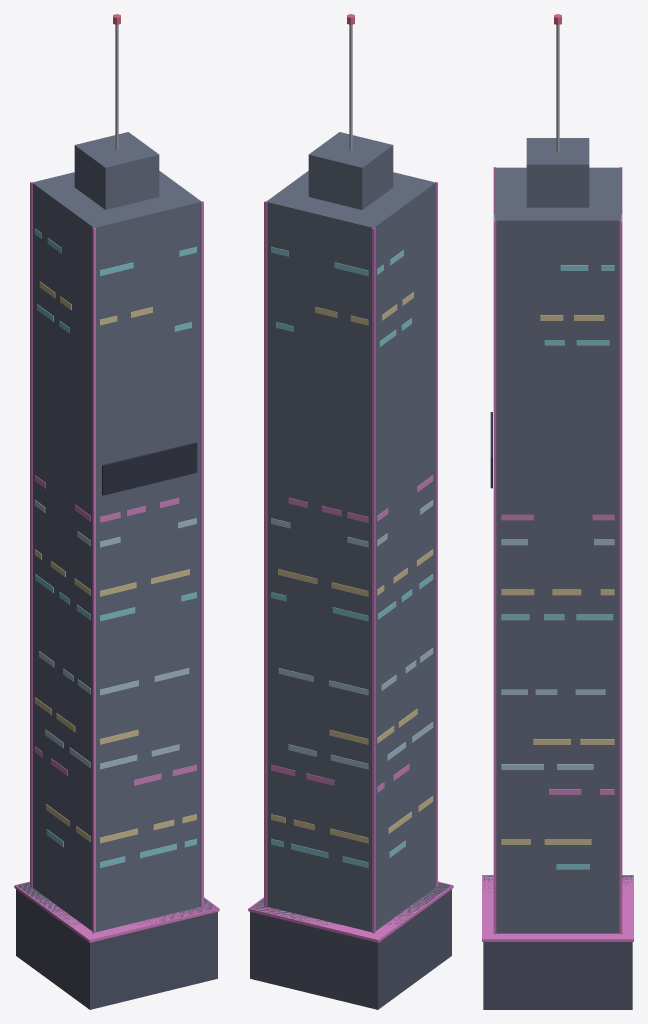
The model's file is c_turm_b.glb.
3 views of the same model, side by side, from view 1: azimuth 30°, elevation 25°; view 2: azimuth 150°, elevation 25°; view 3: azimuth 270°, elevation 25° (orthographic).
Visible parts, largest first — view 1: koerper, leuchten; view 2: koerper, leuchten; view 3: koerper, leuchten.
Part boxes in pixels (box(x1,y1,x2,y2)): koerper: box(16, 24, 217, 1009); leuchten: box(14, 14, 219, 942); koerper: box(250, 24, 451, 1009); leuchten: box(248, 14, 453, 942); koerper: box(483, 25, 632, 1009); leuchten: box(482, 14, 633, 941).
Size of the model in its own units: 19.3 by 135 by 19.3.
